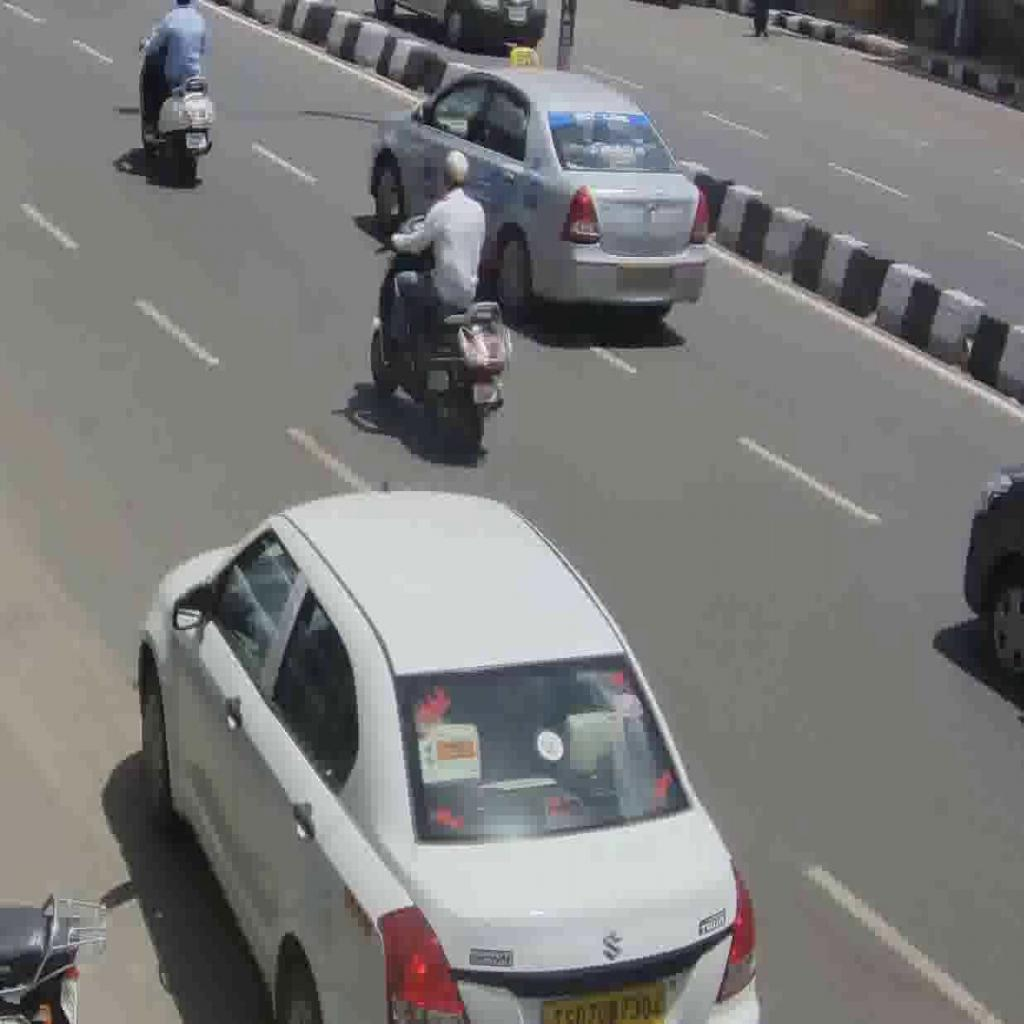helmet: (370, 211, 512, 454), (138, 26, 214, 184)
